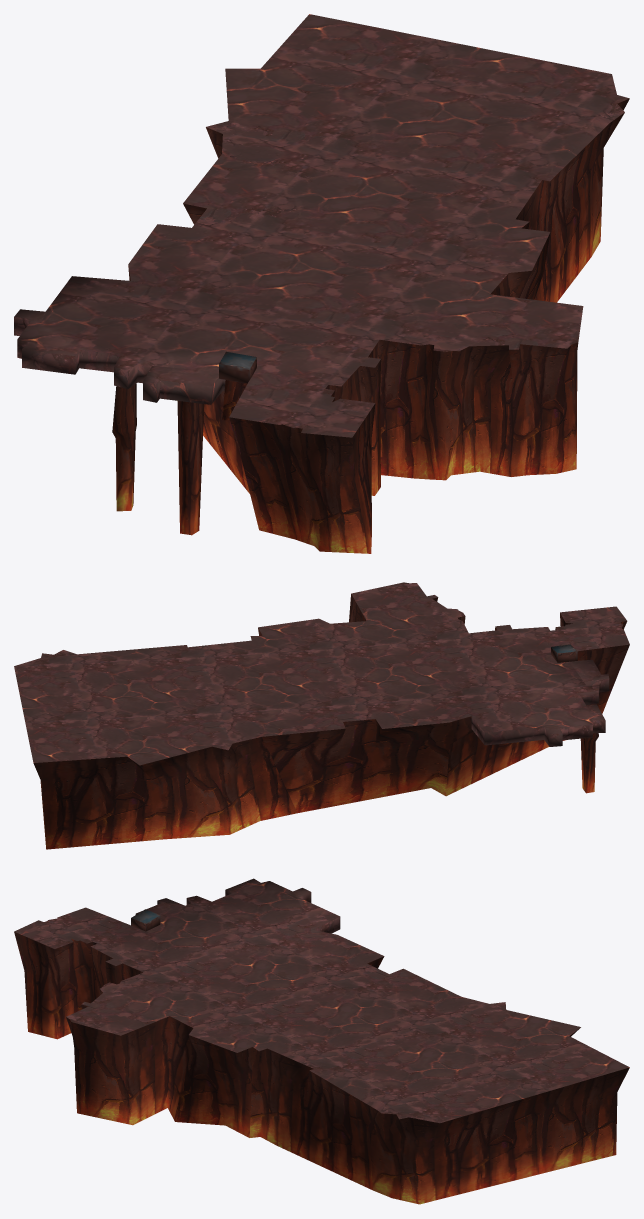
Rendered from terrain08.FBX.
3 renders of one model, top to bottom at view 1: azimuth 30°, elevation 25°; view 2: azimuth 150°, elevation 25°; view 3: azimuth 270°, elevation 25°, orthographic. The views are drawn at different scales.
Visible parts, largest first — view 1: terrain08; view 2: terrain08; view 3: terrain08.
Boxes of the visible parts, left/top/right/bottom form: terrain08: left=14, top=14, right=629, bottom=553; terrain08: left=14, top=582, right=629, bottom=849; terrain08: left=14, top=878, right=629, bottom=1204.
Size of the model in its own units: 4741 by 5042 by 1051.
